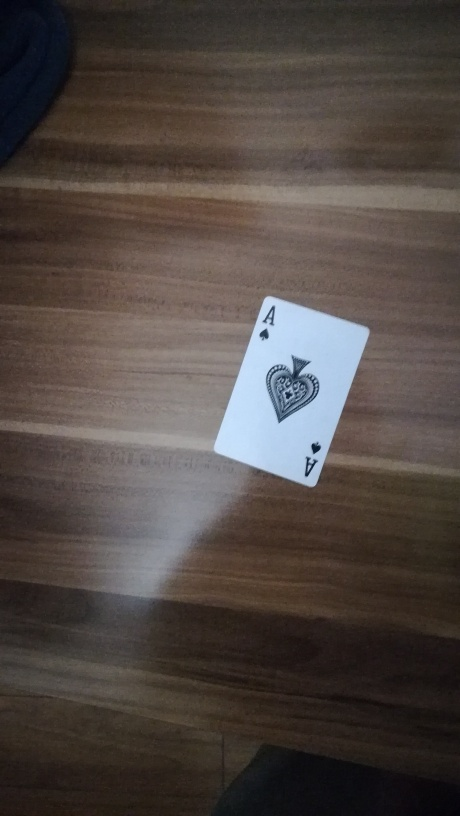ht a: (201, 296, 375, 489)
